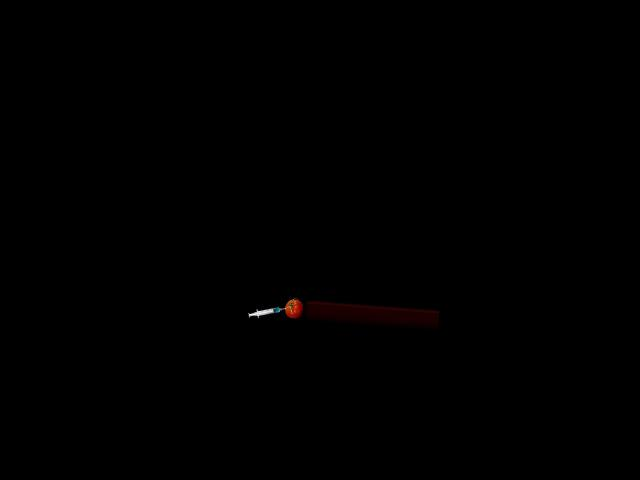tomato: (284, 298, 303, 319)
